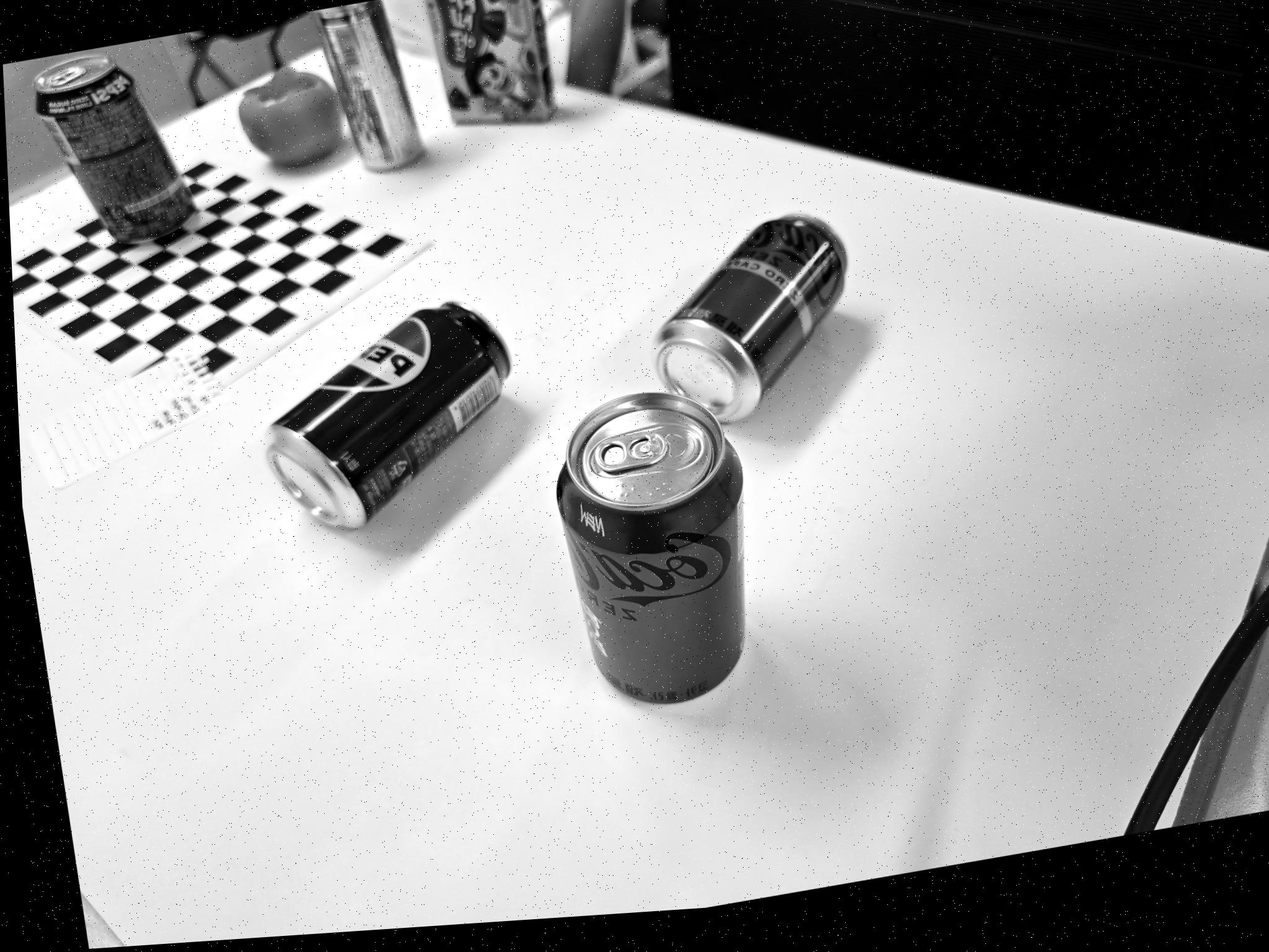can_coke_decaf: (648, 210, 849, 423)
can_coke_zero: (553, 389, 746, 707)
can_pepsi: (264, 296, 512, 529)
